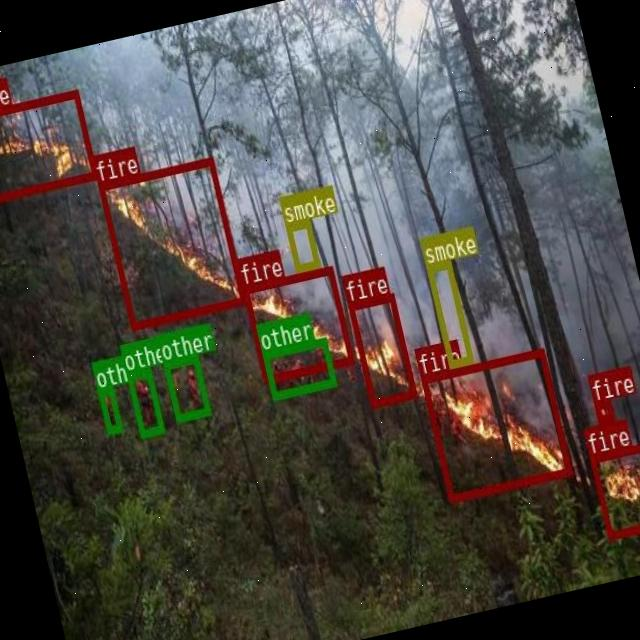fire: (96, 158, 245, 330), (420, 348, 571, 502), (241, 266, 352, 382), (0, 87, 97, 201), (346, 292, 416, 407), (588, 435, 640, 539), (594, 398, 614, 422)
smoke: (426, 260, 472, 368), (284, 217, 319, 271)
